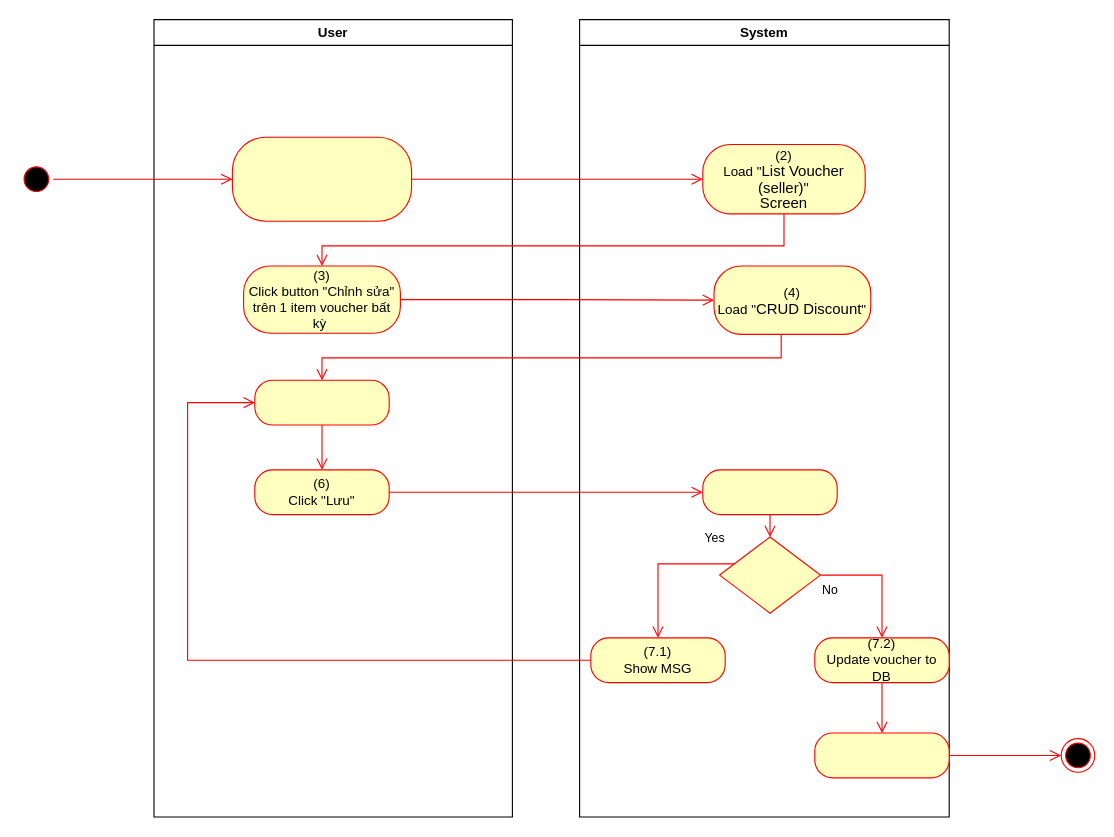
Image size: 1114x837. Some labels were removed from this diagram. Here are the shapes that lost their labels. From the top down, the centre of each, then its label:
pixel 321 178: (1) On "left menu" click " Discount/Voucher Management – CRUD Voucher "
pixel 321 402: (5) Giving input
pixel 769 492: (7) Validate
pixel 881 755: (8) Update UI
